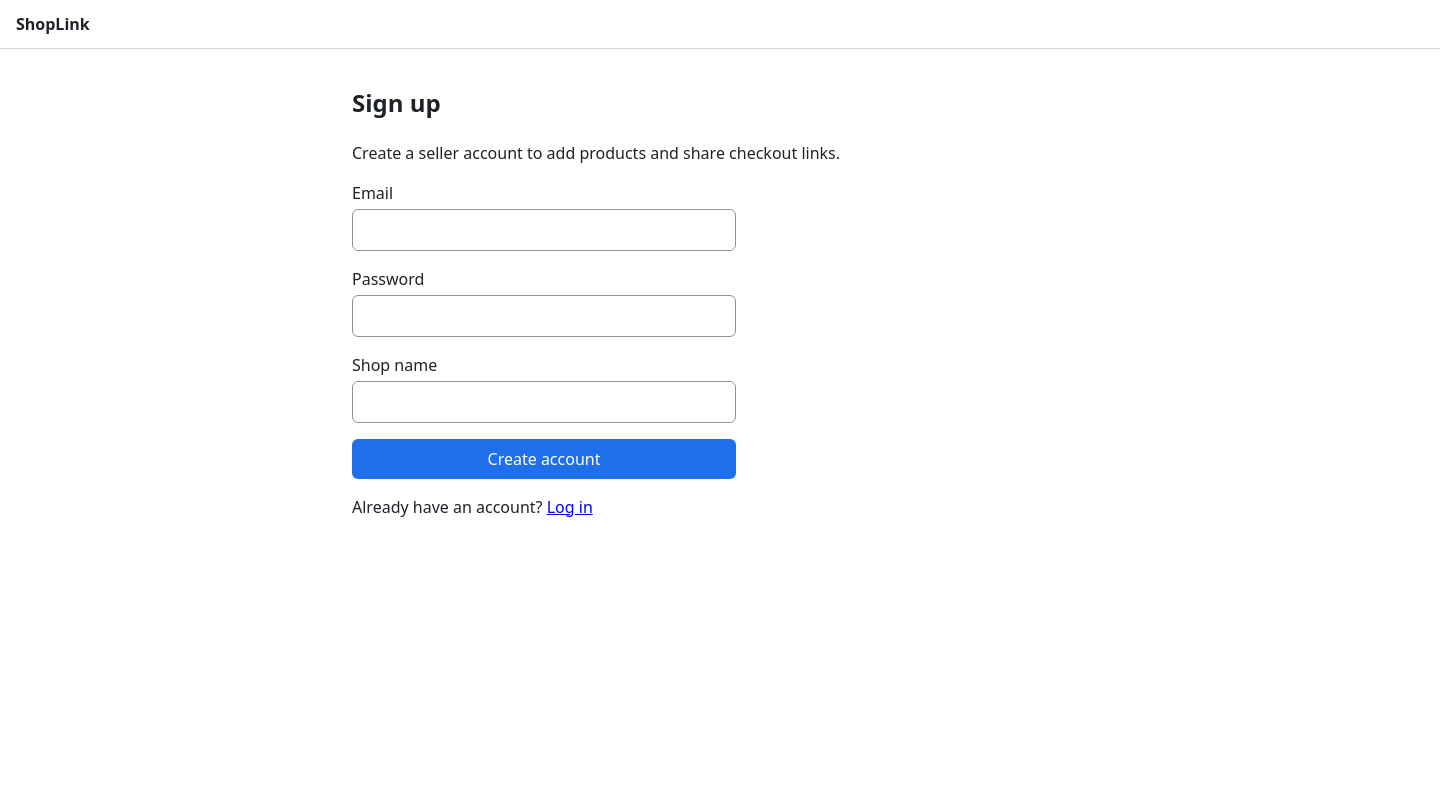
Scenario: sign up page › shows "email taken" on the email field, with a link to log in
This screenshot has width=1440, height=810.
Check: the heading "Sign up" is shown, box [352, 86, 441, 119]
In the field labelled "Email": (544,230) [352, 209, 736, 251], type "taken@example.com"
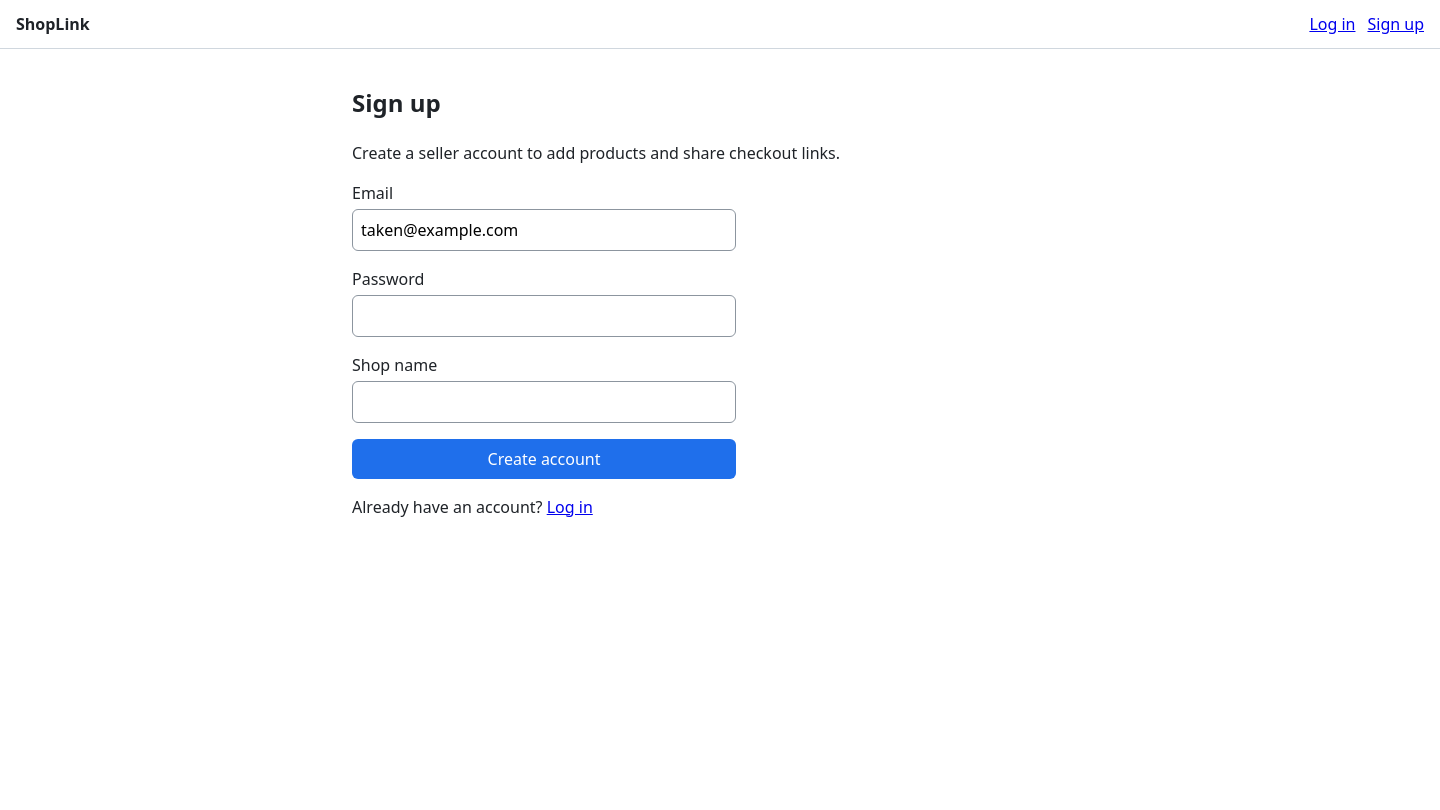
In the password field labelled "Password": (544,316) [352, 295, 736, 337], type "correct horse"
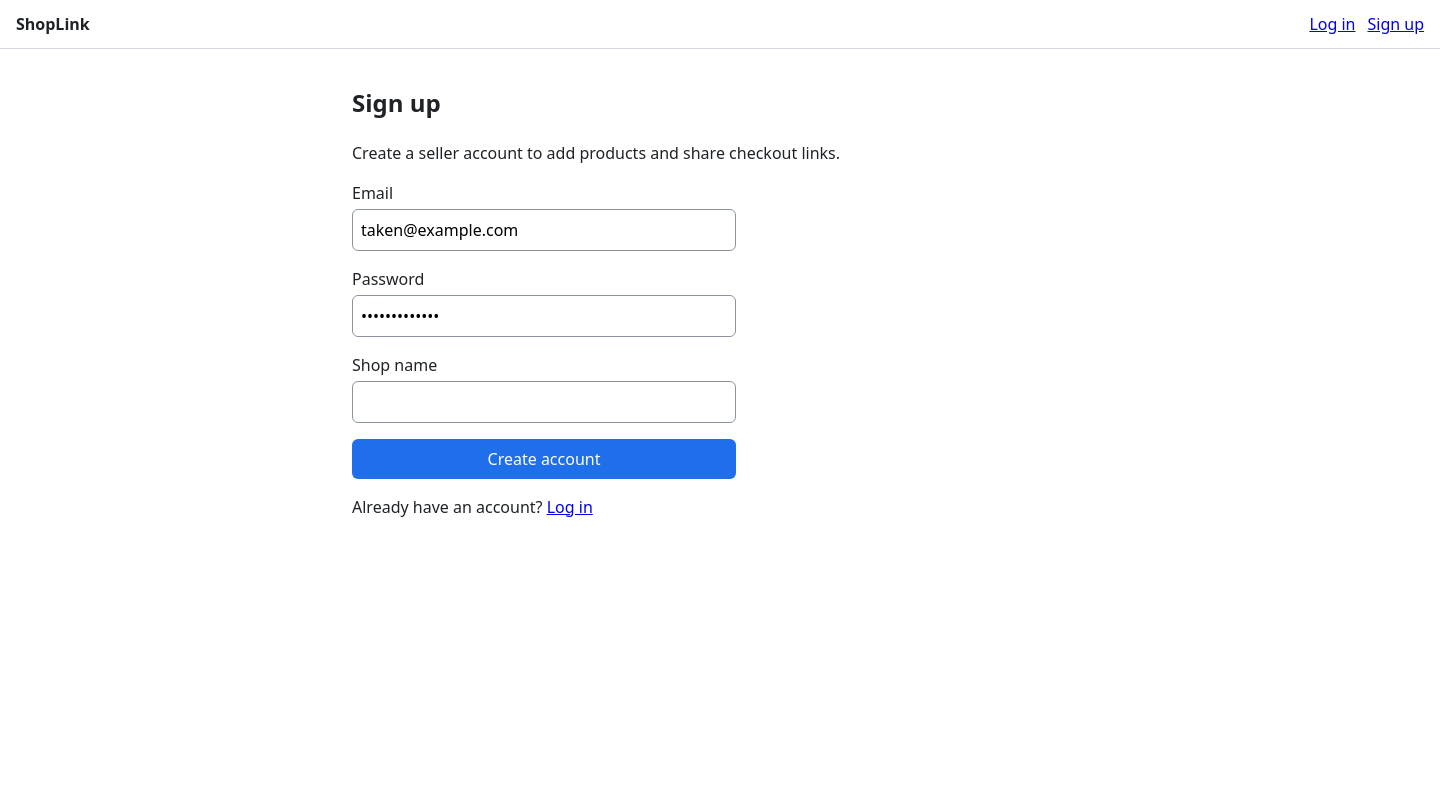
In the field labelled "Shop name": (544,402) [352, 381, 736, 423], type "Toko"
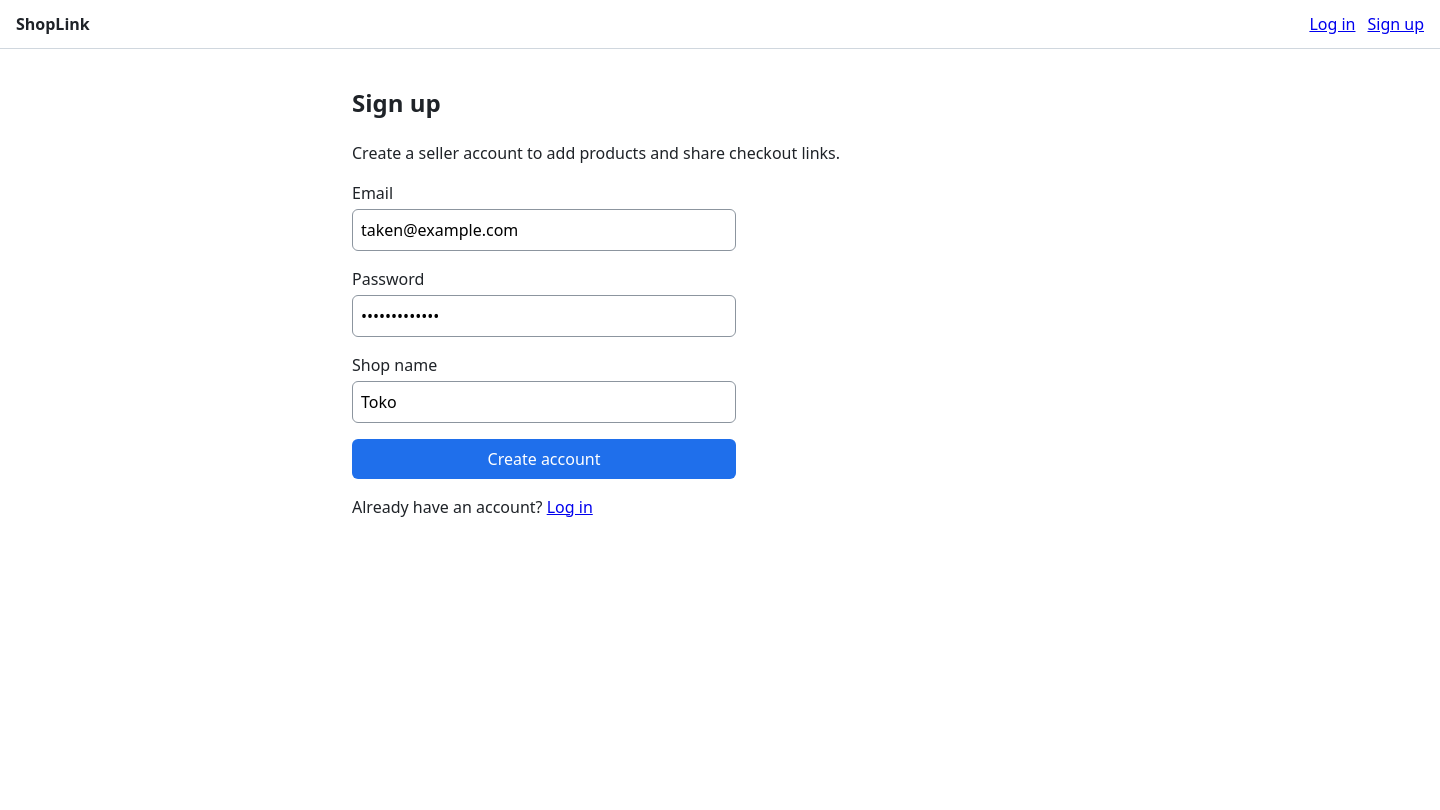
Click the button "Create account": (544,459) [352, 439, 736, 479]
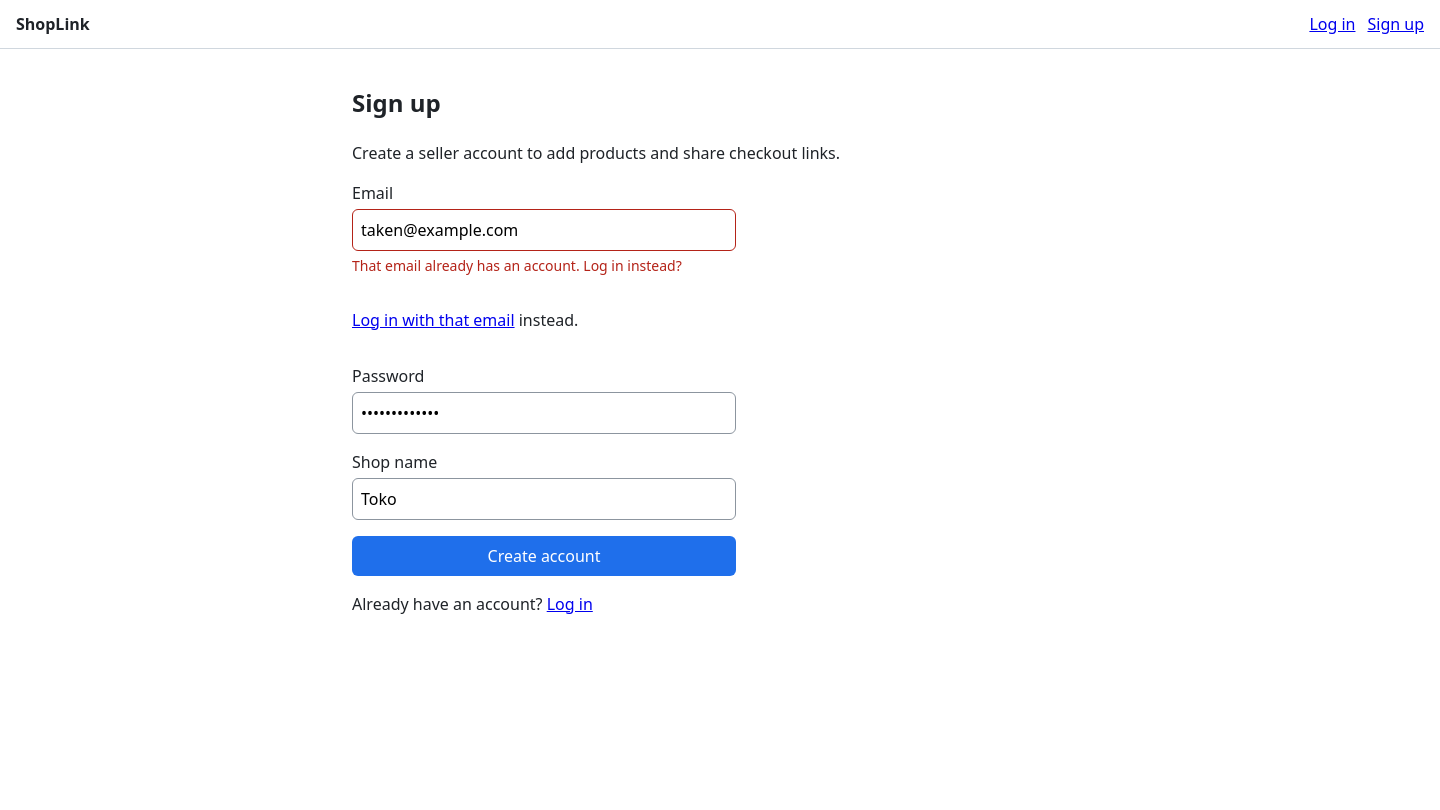
Check: the text "That email already has an account. Log in instead?" is shown, box [352, 255, 736, 276]
